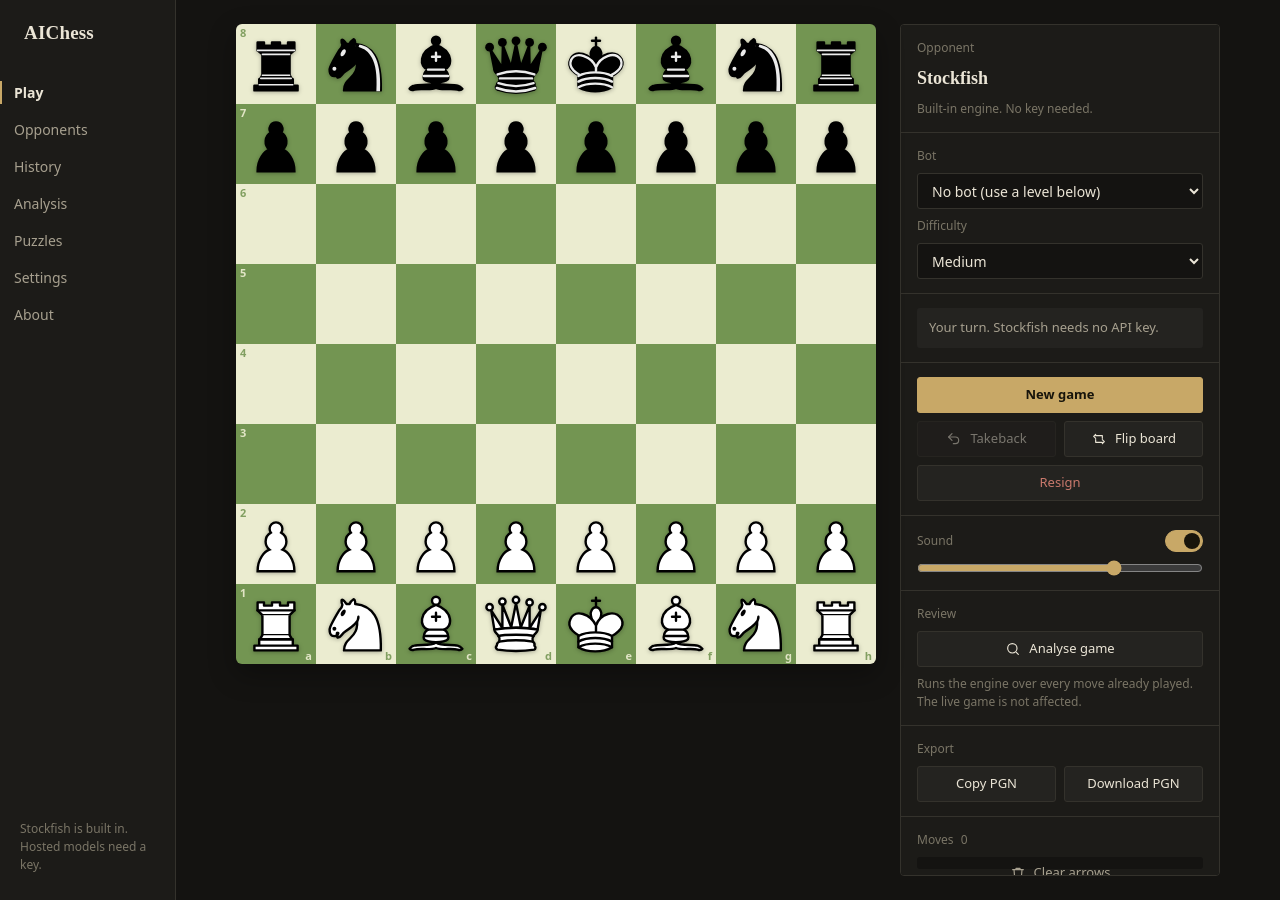
history › keeps a real game in this browser and lists it
Press the mouse on the element with class "chessboard-wrap" at (556, 344), box [236,24,876,664]
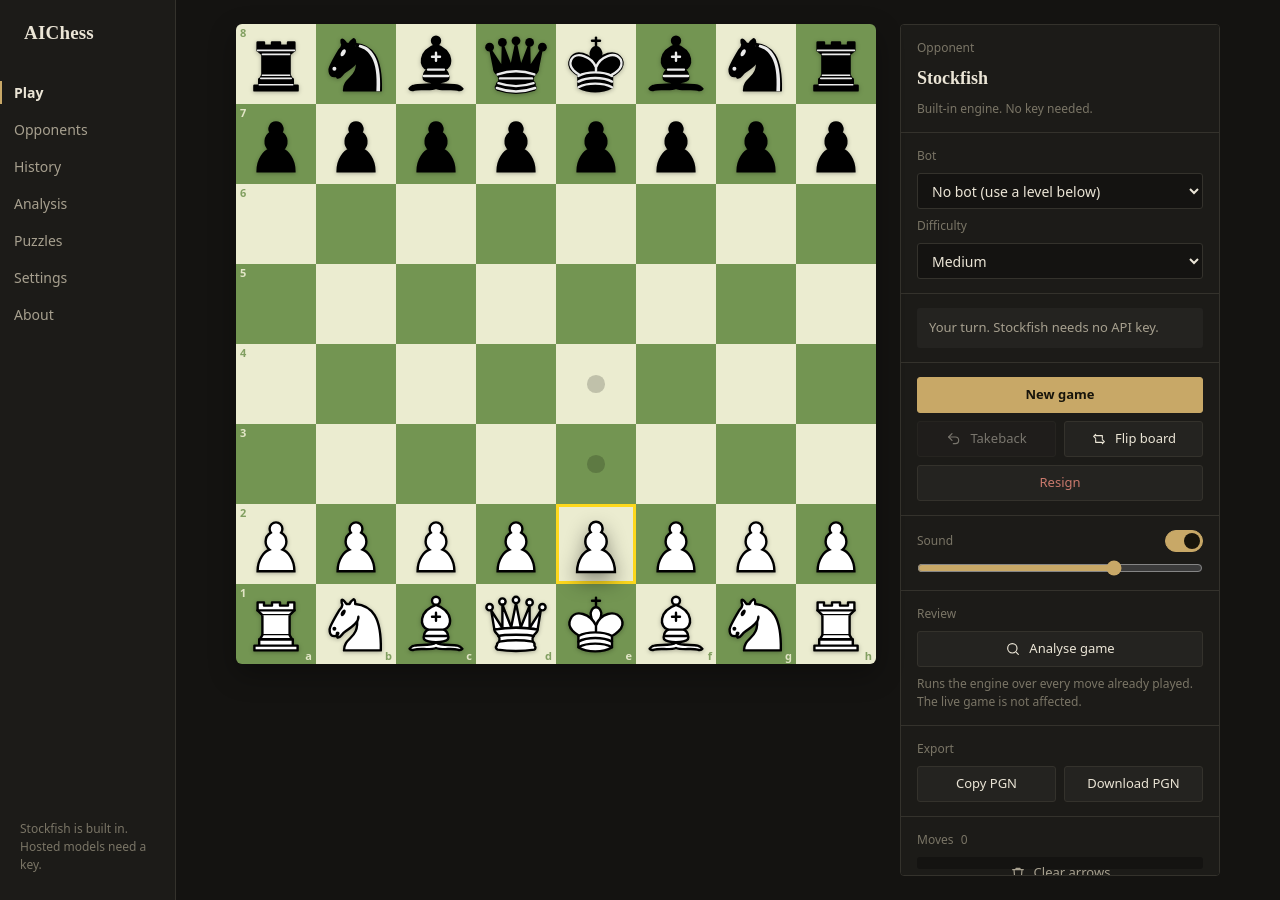
Press the mouse on the element with class "chessboard-wrap" at (556, 344), box [236,24,876,664]
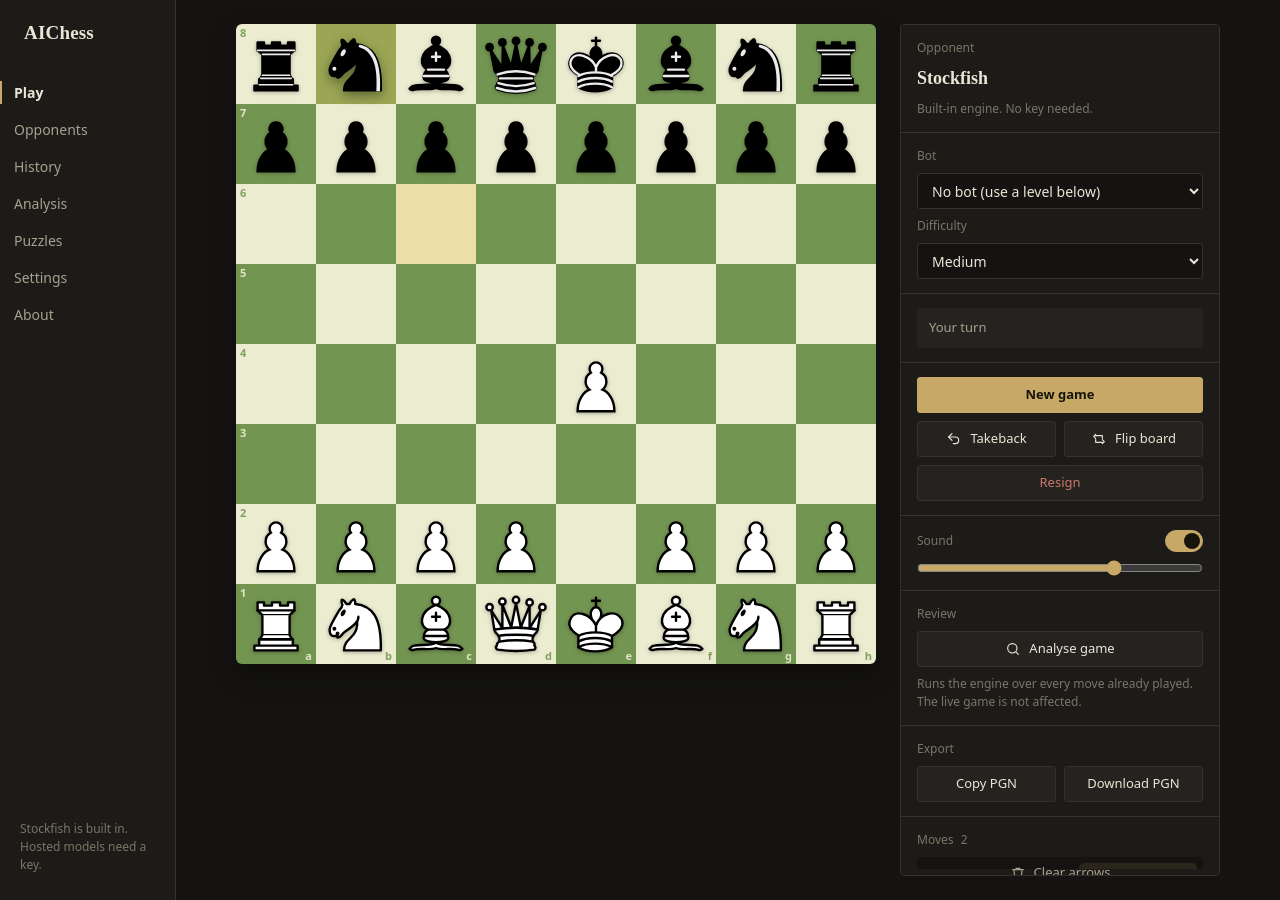
Click the button "New game" at (1060, 395), box [917,377,1203,413]
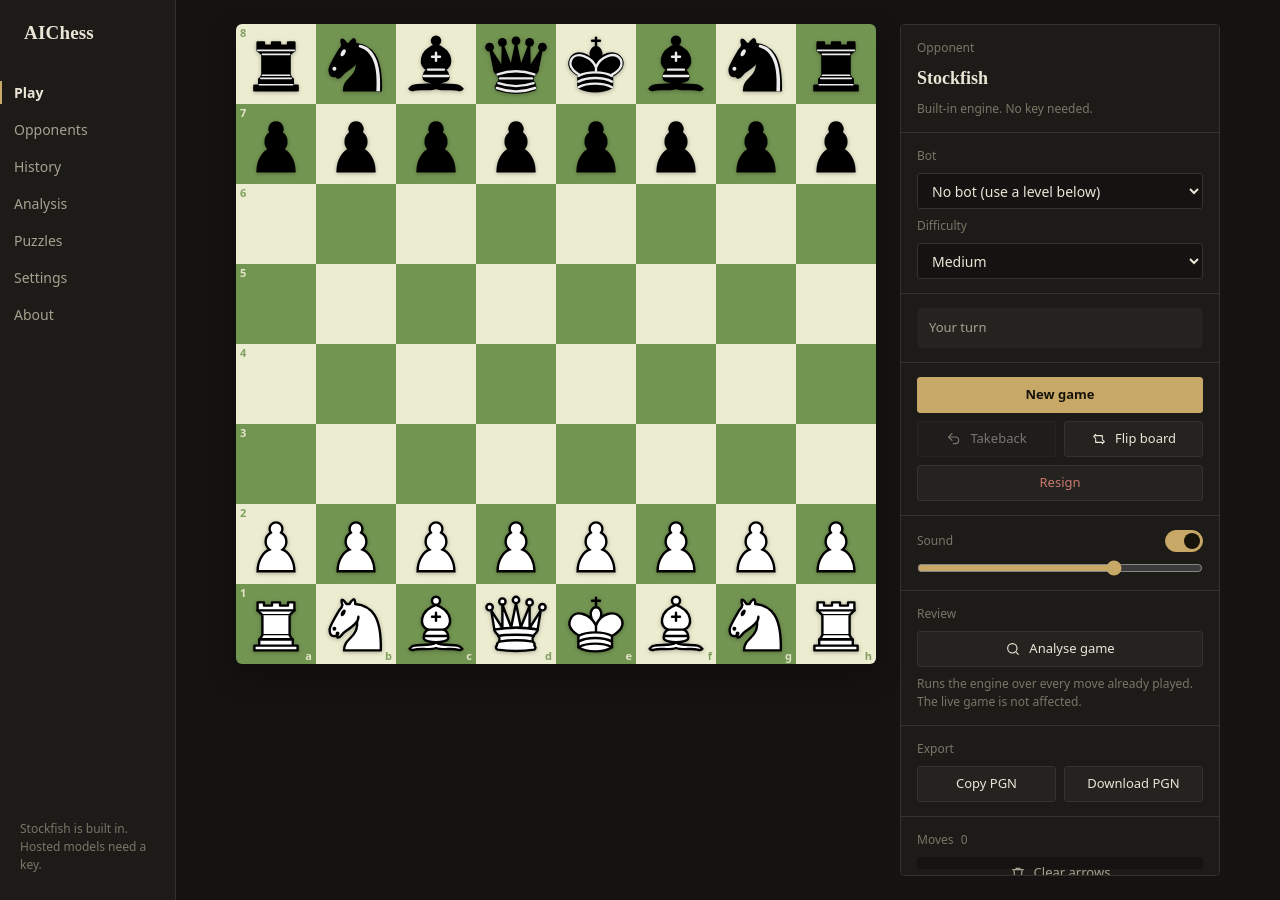
Click the button "History" at (88, 166), box [12,149,163,184]
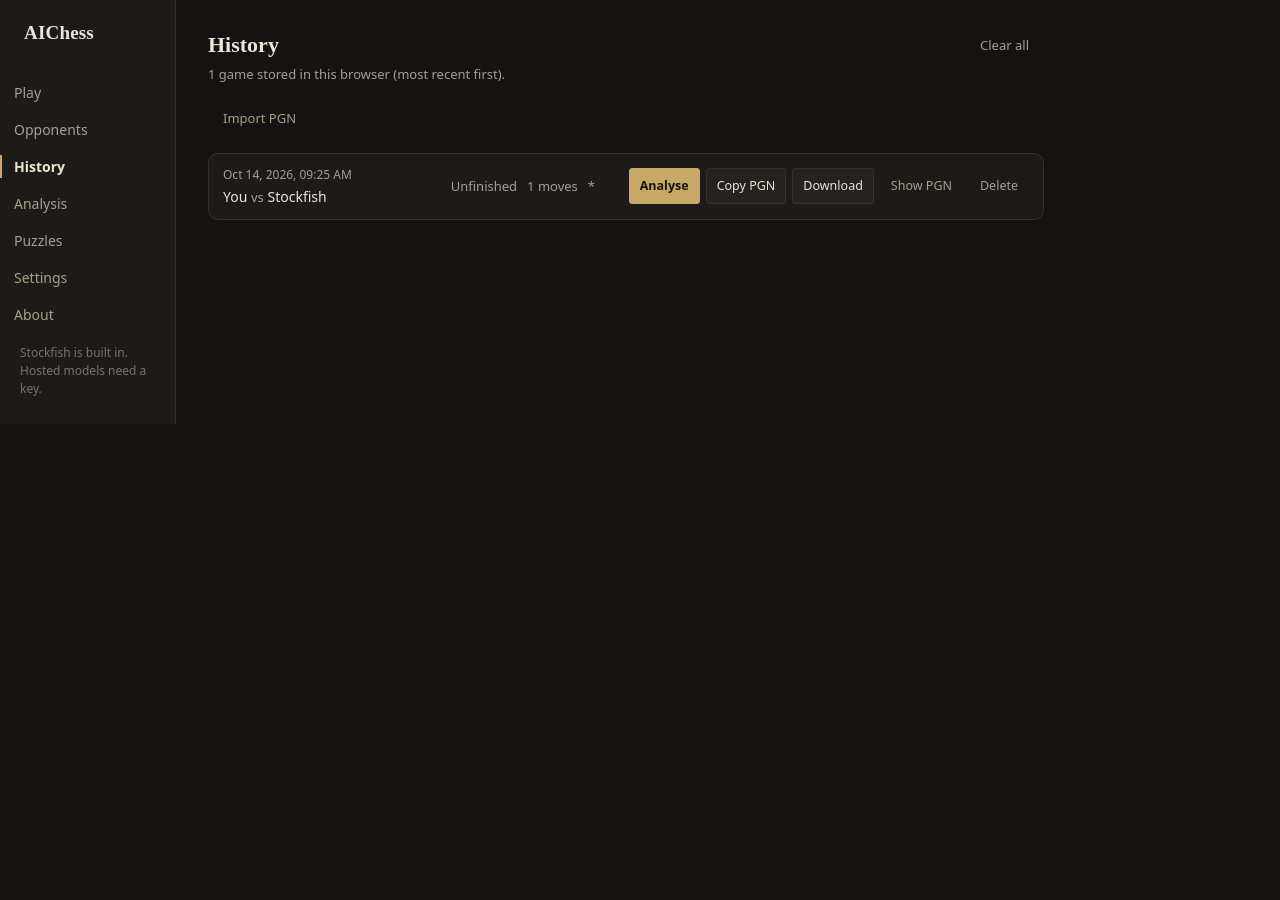
Result: the number of list items with class "history-item" is 1 at [208,152,1044,220]
Result: the list item with class "history-item" shows "Unfinished" at [451,176,517,194]
Result: the list item with class "history-item" shows "1 moves" at [208,152,1044,220]
